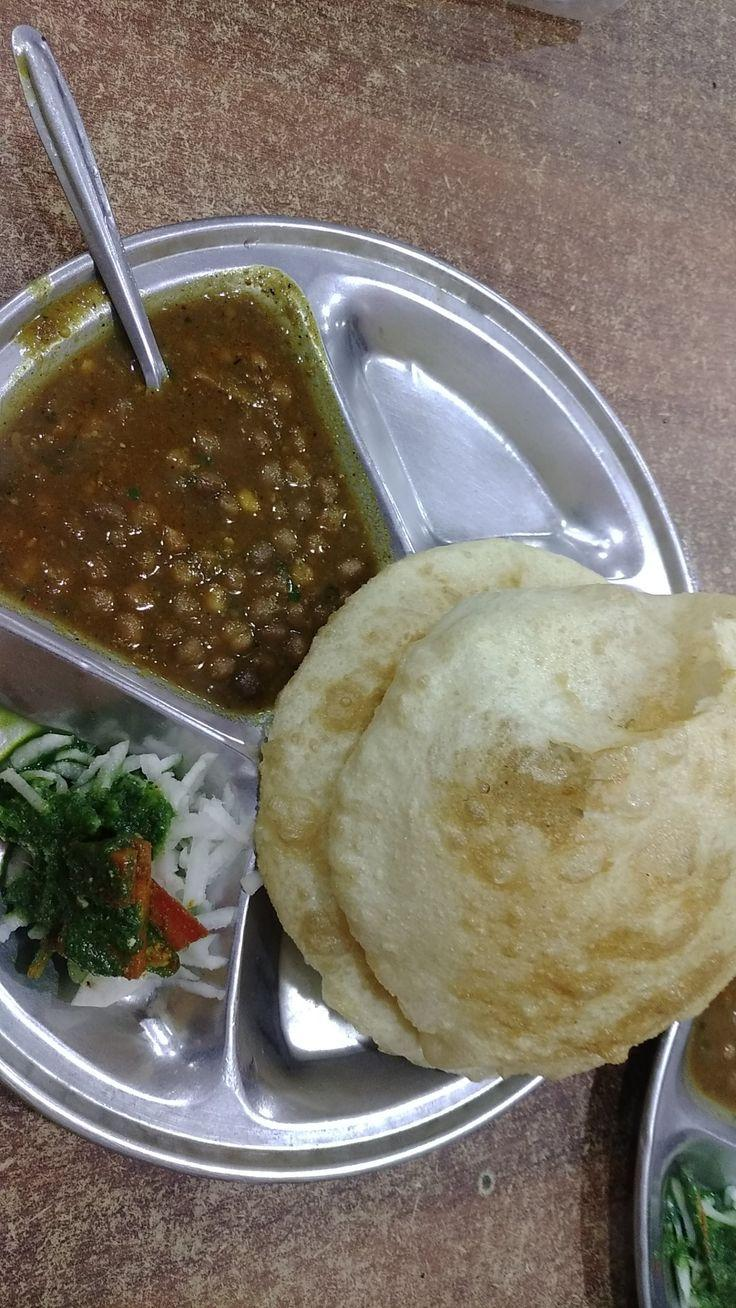chole: (37, 328, 361, 665)
puri: (320, 544, 736, 1038)
salad: (0, 718, 254, 1071)
